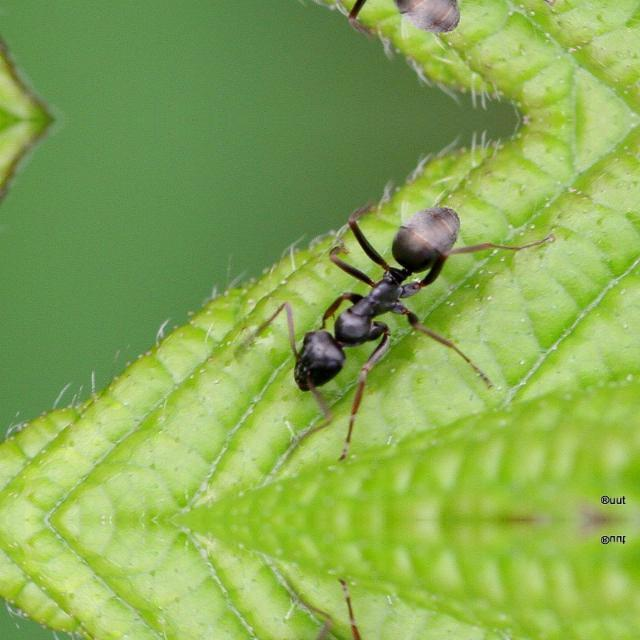Formica: (257, 200, 475, 404)
